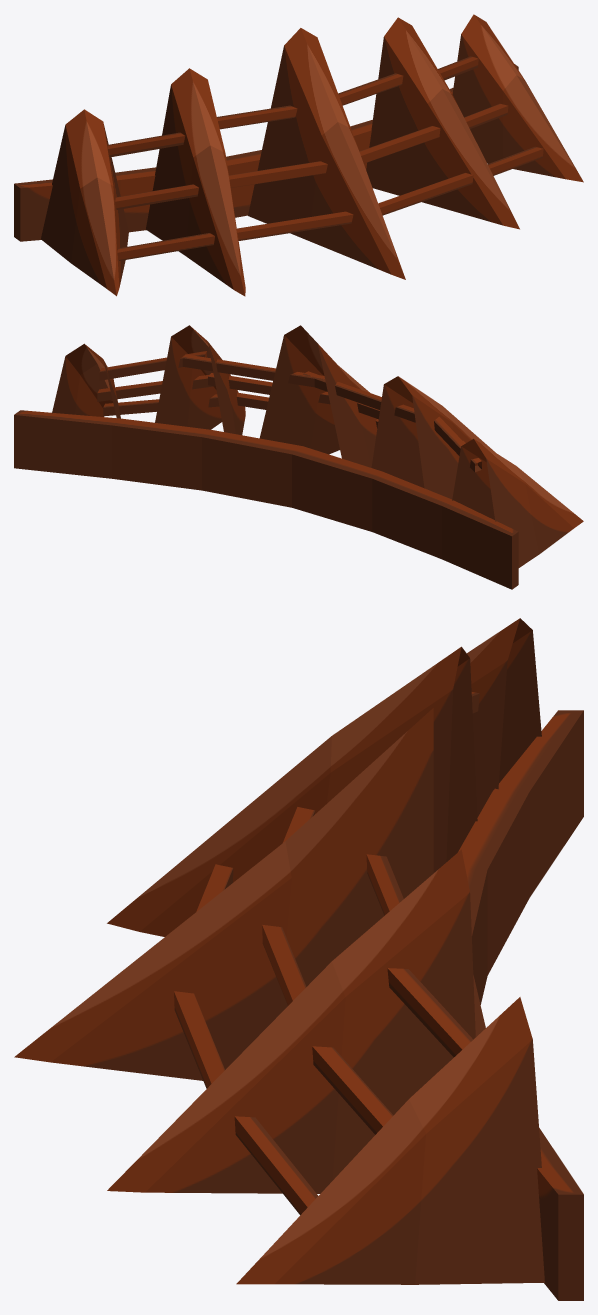
File: car_front_bumper.obj
The picture shows the model from 3 angles, top to bottom: view 1: azimuth 30°, elevation 25°; view 2: azimuth 150°, elevation 25°; view 3: azimuth 270°, elevation 25°; orthographic projection. The views are drawn at different scales.
Visible parts, largest first — view 1: car_front_bumper_Cube.007; view 2: car_front_bumper_Cube.007; view 3: car_front_bumper_Cube.007.
Boxes of the visible parts, x1,y1,x2,y2 form: car_front_bumper_Cube.007: (14, 14, 583, 296); car_front_bumper_Cube.007: (14, 325, 583, 589); car_front_bumper_Cube.007: (14, 618, 583, 1300).
Size of the model in its own units: 2.74 by 0.9265 by 1.36.
1 material, 1 textured.
